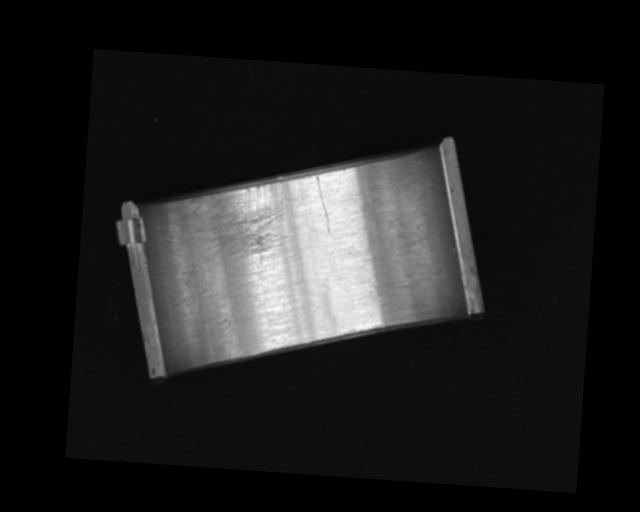nick: (411, 234, 456, 317), (312, 175, 335, 233)
scratch: (182, 174, 288, 264)
